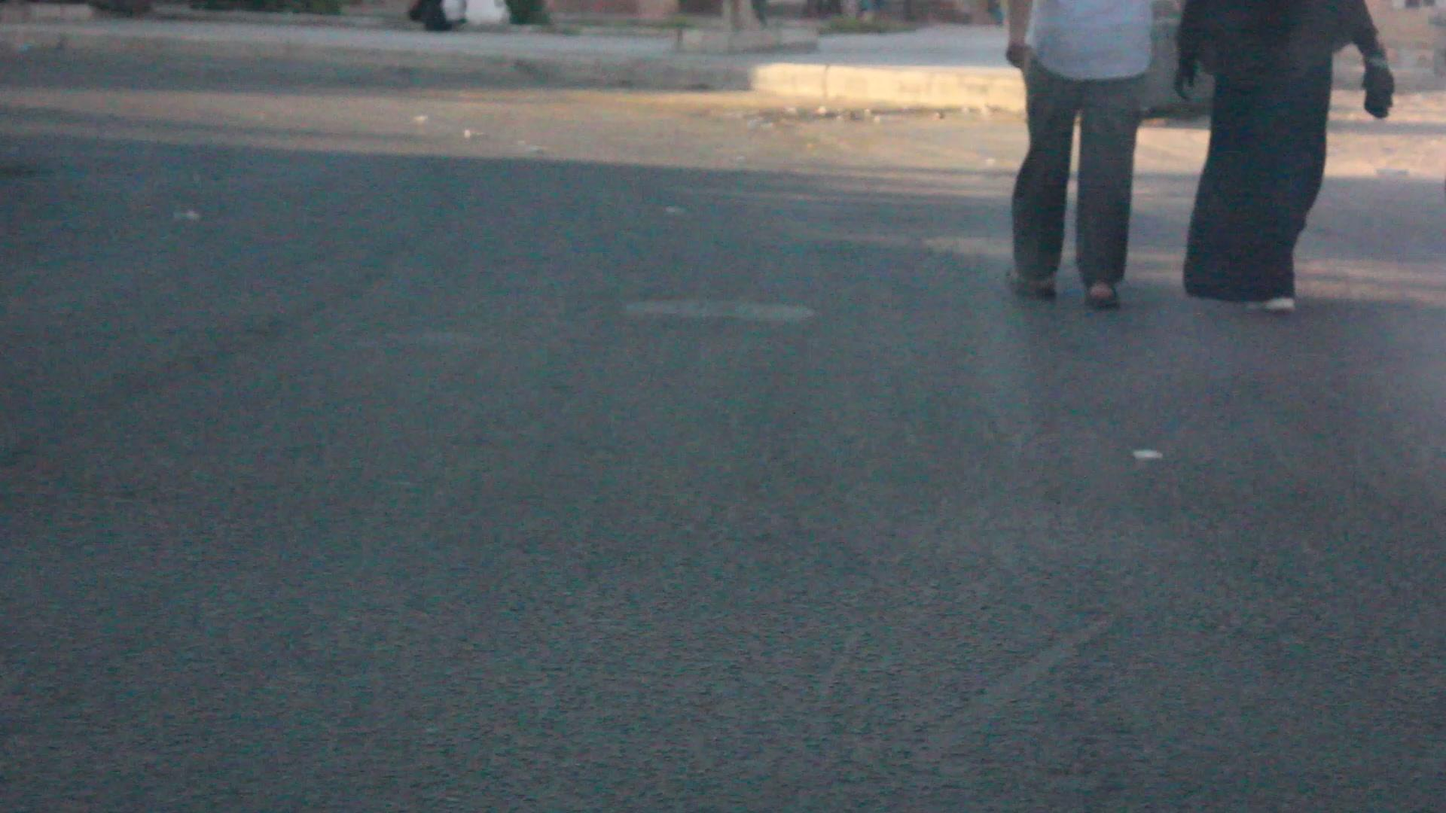Bump: (0, 497, 1446, 773)
